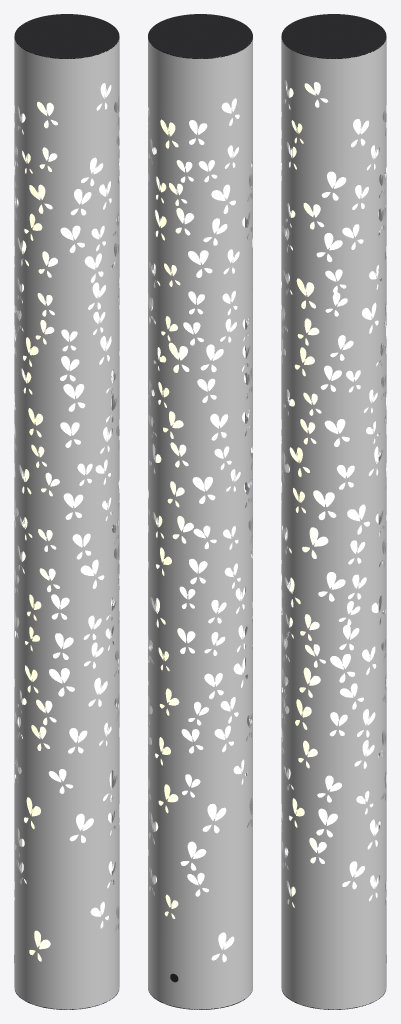
File: hollow-carved-butterfly-floor-lamp-ambient-projector-decor.glb
3 views of the same model, side by side, from view 1: azimuth 90°, elevation 25°; view 2: azimuth 150°, elevation 25°; view 3: azimuth 270°, elevation 25° (orthographic).
Parts seen in each view (by area): view 1: Tube_Outer, Diffuser, Tube_Inner, Cap_Top, Rim_Top; view 2: Tube_Outer, Diffuser, Tube_Inner, Cap_Top, Rim_Top; view 3: Tube_Outer, Diffuser, Tube_Inner, Cap_Top, Rim_Top.
Boxes of the visible parts, <box> form: Tube_Outer: <box>14,37,119,1009</box>; Diffuser: <box>22,83,111,961</box>; Tube_Inner: <box>16,83,117,961</box>; Cap_Top: <box>16,14,117,57</box>; Rim_Top: <box>14,14,119,58</box>; Tube_Outer: <box>148,39,252,1009</box>; Diffuser: <box>156,98,244,961</box>; Tube_Inner: <box>149,98,251,962</box>; Cap_Top: <box>149,14,251,57</box>; Rim_Top: <box>148,14,252,58</box>; Tube_Outer: <box>281,37,386,1009</box>; Diffuser: <box>289,82,378,907</box>; Tube_Inner: <box>283,79,384,908</box>; Cap_Top: <box>283,14,384,57</box>; Rim_Top: <box>281,14,386,58</box>.
Bounding box in the file's own units: 0.1001 × 1 × 0.1001.
Materials: 4 (3 with a texture image).
